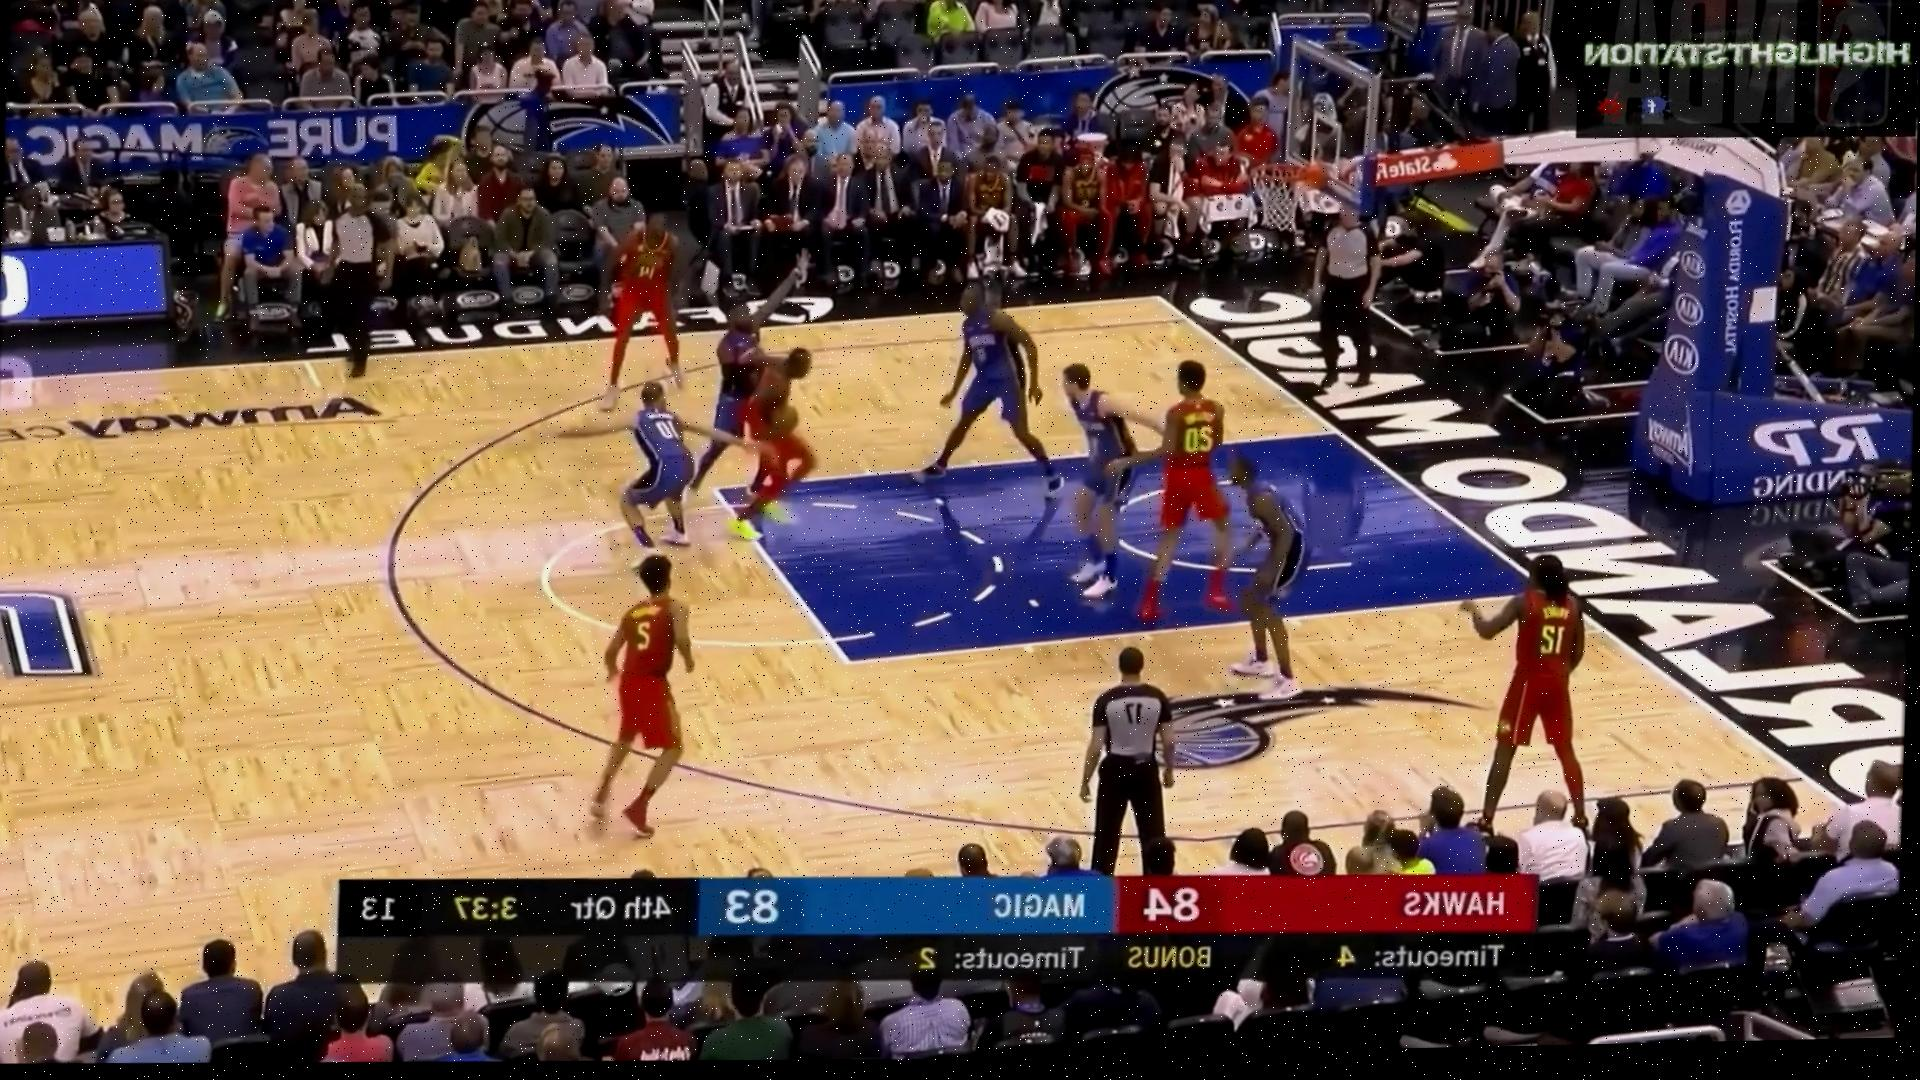no_foul: (684, 285, 832, 534)
